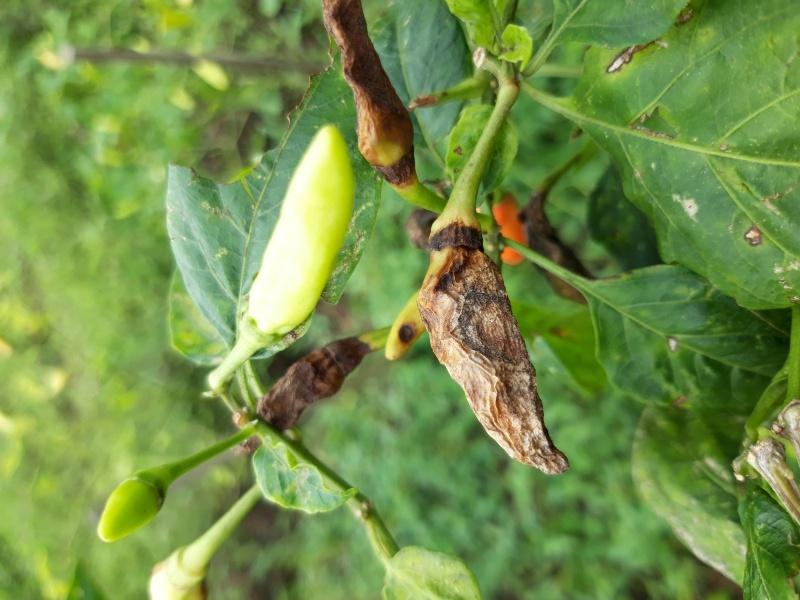antraknosa: (420, 248, 567, 473), (319, 1, 415, 168), (253, 339, 362, 431), (386, 292, 431, 362)
cabai_normal: (246, 123, 354, 337), (98, 479, 162, 541)
